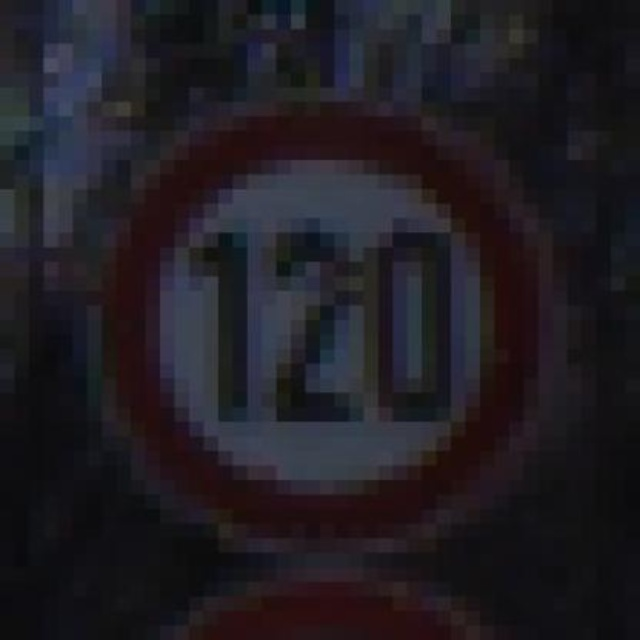Tốc độ tối đa cho phép 120km/h: (113, 102, 536, 547)
